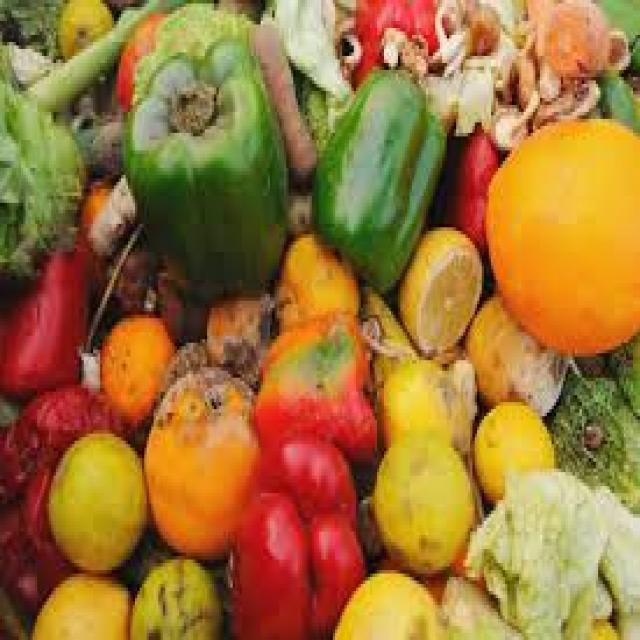food_waste: (20, 29, 627, 637)
